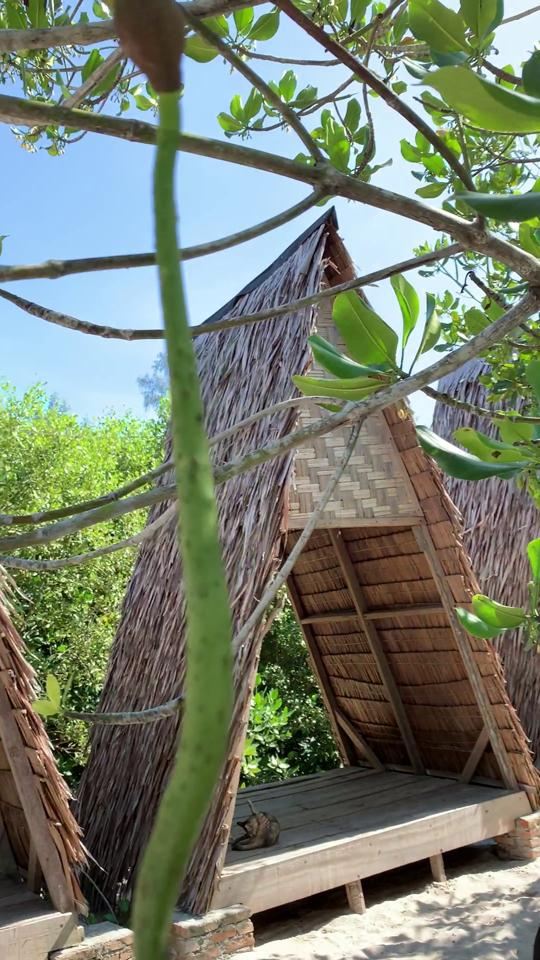setengah matang: (91, 1, 231, 953)
